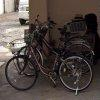bicycles: (4, 29, 96, 93)
